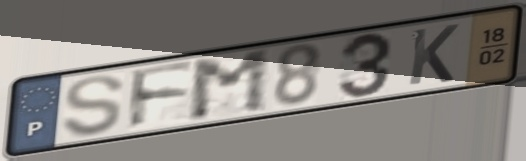3: (336, 30, 395, 101)
8: (270, 42, 325, 111)
F: (128, 59, 198, 134)
K: (404, 22, 462, 88)
M: (189, 46, 272, 124)
S: (58, 73, 128, 139)
